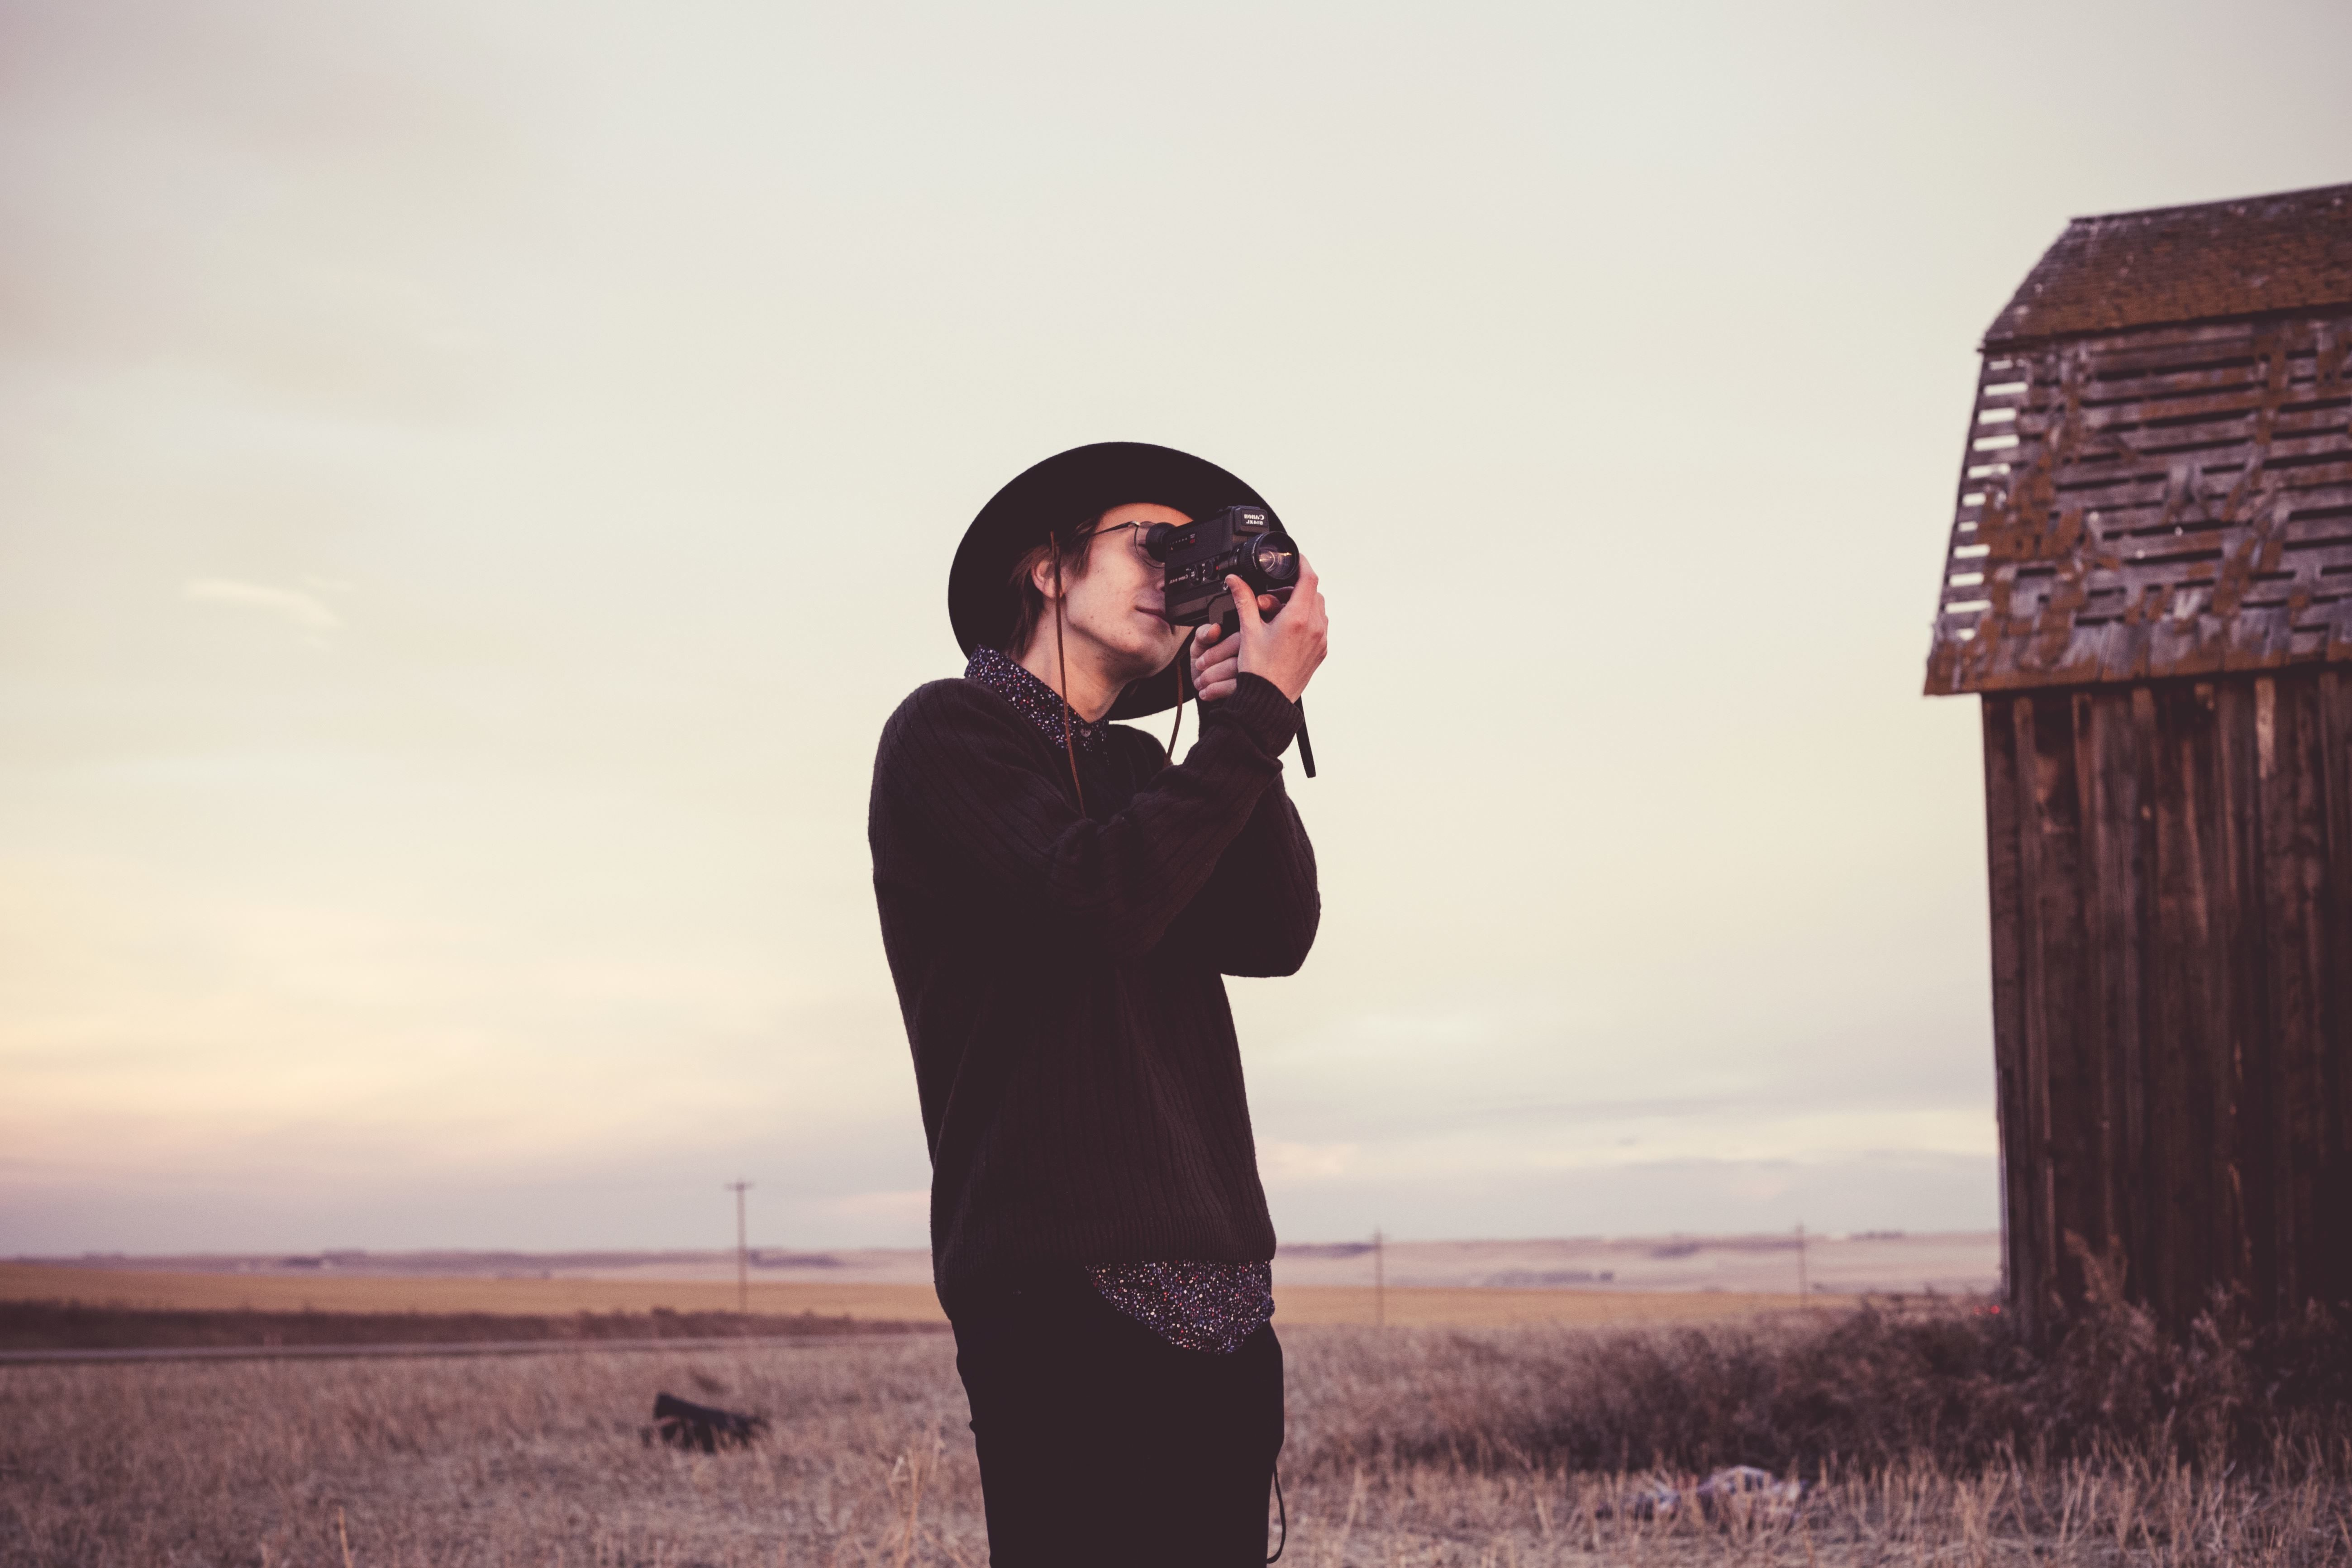human: (816, 396, 1380, 1568)
